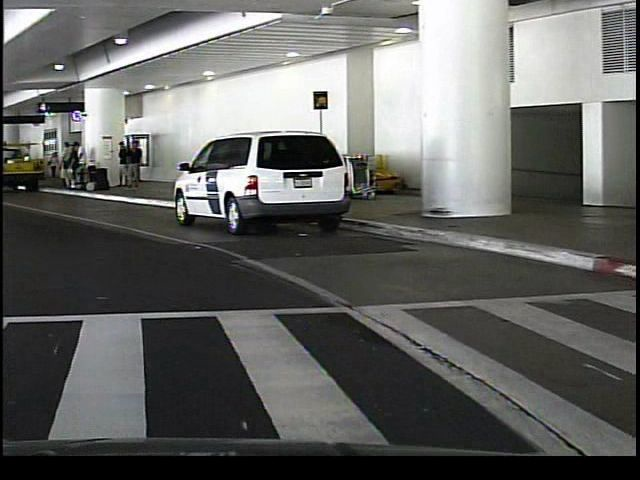person: (55, 139, 69, 191), (128, 139, 141, 189)
